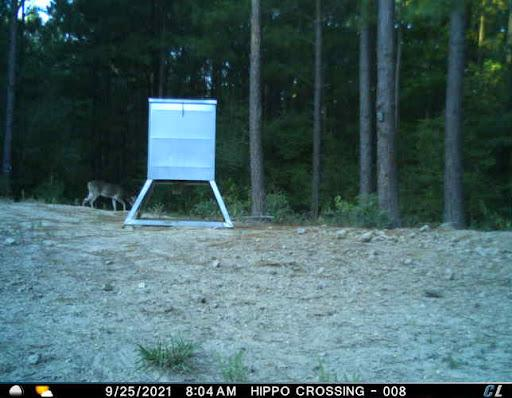Deer: (78, 172, 139, 219)
